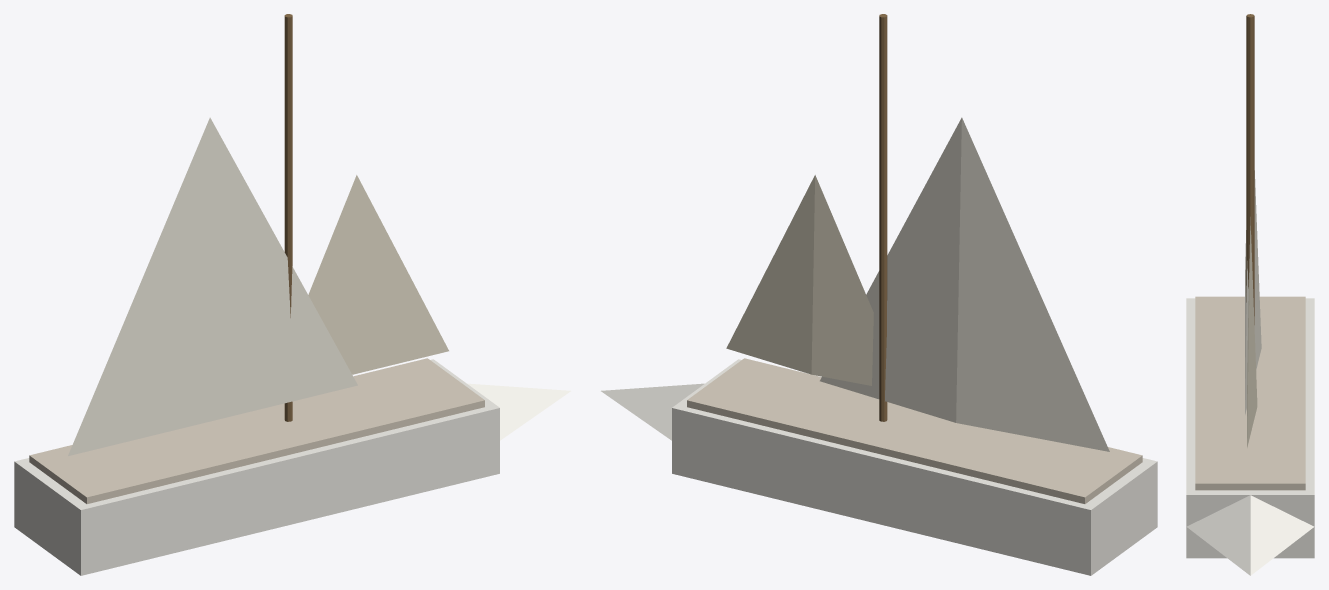
The model's file is sailboat.glb.
3 renders of one model, left to right at view 1: azimuth 30°, elevation 25°; view 2: azimuth 150°, elevation 25°; view 3: azimuth 270°, elevation 25°, orthographic. The views are drawn at different scales.
Visible parts, largest first — view 1: Sailboat; view 2: Sailboat; view 3: Sailboat.
Boxes of the visible parts, box(x1,y1,x2,y2) form: Sailboat: box(14, 14, 570, 575); Sailboat: box(601, 14, 1157, 575); Sailboat: box(1186, 14, 1314, 575).
Bounding box in the file's own units: 1 × 0.87 × 0.22.
